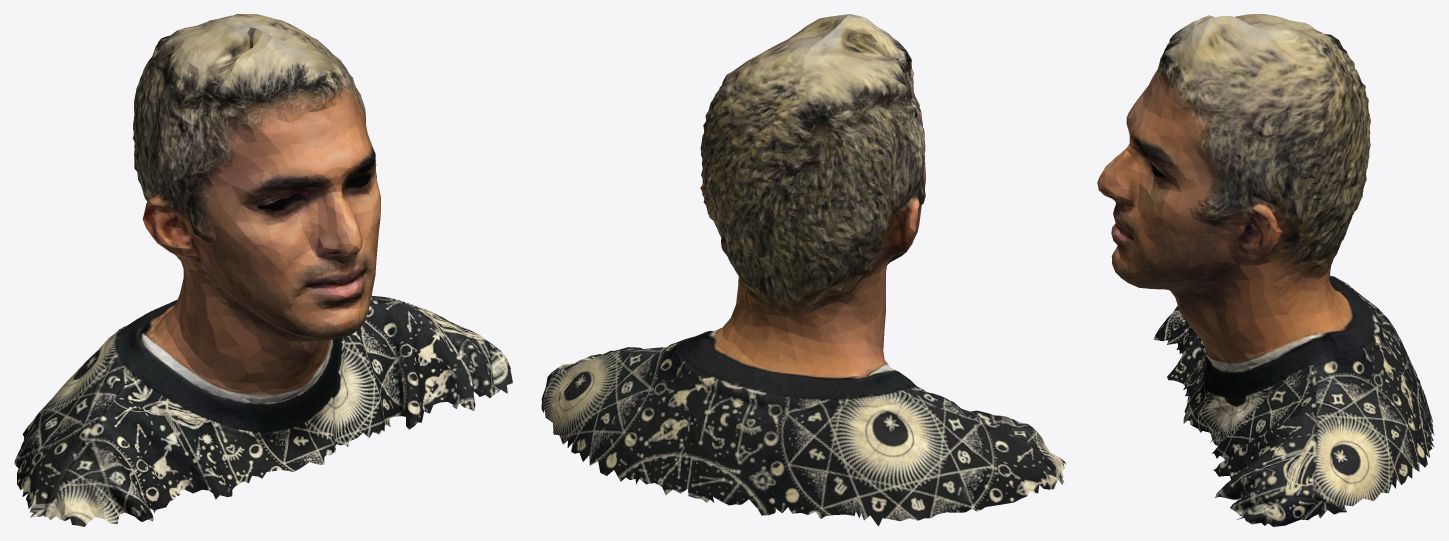
File: Talha1.glb
3 renders of one model, left to right at view 1: azimuth 30°, elevation 25°; view 2: azimuth 150°, elevation 25°; view 3: azimuth 270°, elevation 25°, orthographic. The views are drawn at different scales.
Parts seen in each view (by area): view 1: Mesh_0; view 2: Mesh_0; view 3: Mesh_0.
Boxes of the visible parts, left/top/right/bottom form: Mesh_0: left=14, top=14, right=512, bottom=526; Mesh_0: left=541, top=14, right=1066, bottom=526; Mesh_0: left=1097, top=14, right=1434, bottom=526.
Bounding box in the file's own units: 1.76 × 1.42 × 1.11.
Materials: 1 (1 with a texture image).
